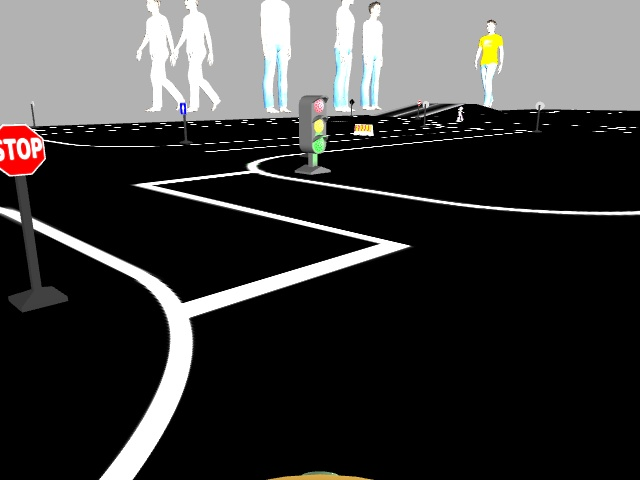ClosedRoadStand: (353, 122, 373, 135)
Stop: (0, 124, 49, 176)
TrafficLight: (298, 95, 329, 153)
